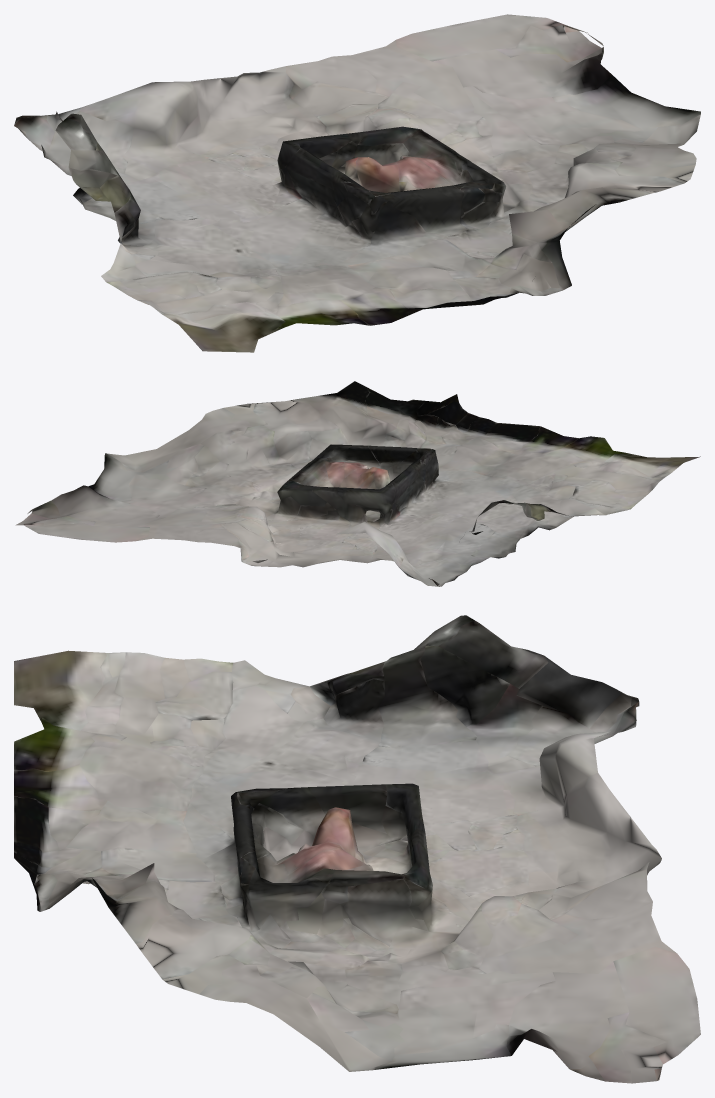
File: hall.glb
3 views of the same model, one above another, from view 1: azimuth 30°, elevation 25°; view 2: azimuth 150°, elevation 25°; view 3: azimuth 270°, elevation 25° (orthographic). The views are drawn at different scales.
Size of the model in its own units: 2.85 by 0.5177 by 2.27.
Materials: 1 (1 with a texture image).
